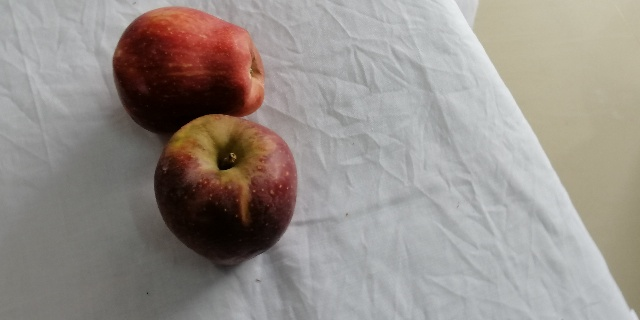apple_kashmir: (153, 115, 300, 265), (113, 6, 264, 134)
